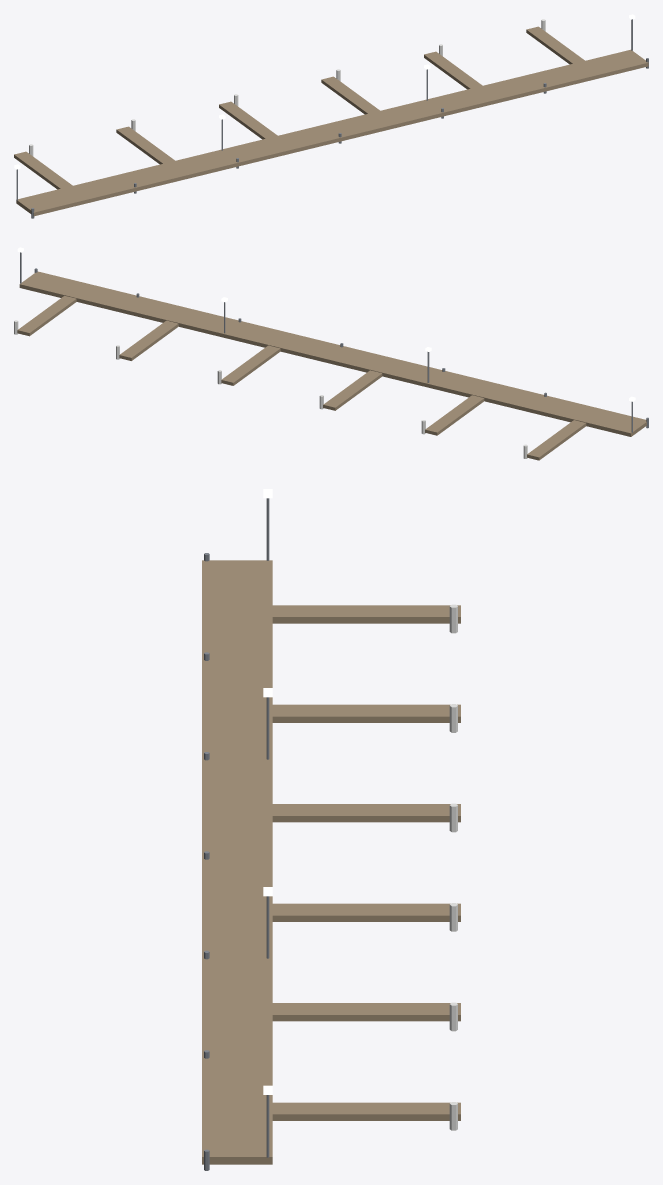
Rendered from pantalan.glb.
The picture shows the model from 3 angles, top to bottom: view 1: azimuth 30°, elevation 25°; view 2: azimuth 150°, elevation 25°; view 3: azimuth 270°, elevation 25°; orthographic projection. The views are drawn at different scales.
Visible parts, largest first — view 1: pantalan; view 2: pantalan; view 3: pantalan.
Part boxes in pixels (x1,y1,x2,y2): pantalan: (14,14,648,218); pantalan: (14,247,648,460); pantalan: (202,489,460,1170).
Size of the model in its own units: 60.4 by 3.85 by 11.
